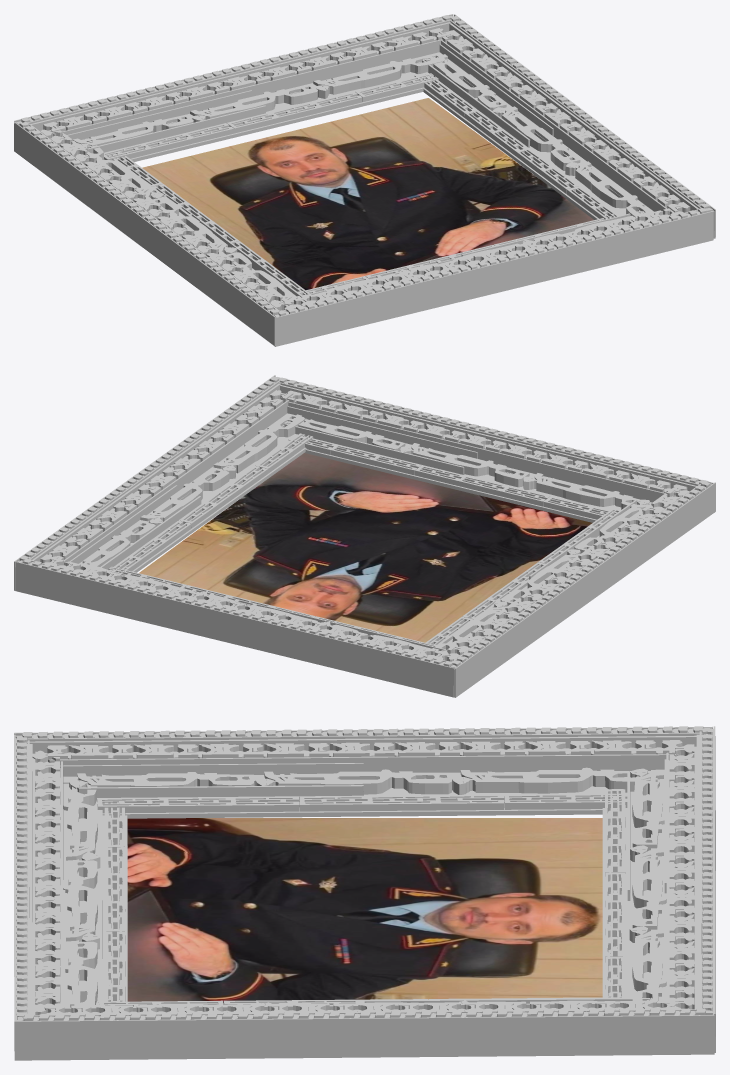
Rendered from frame.glb.
3 views of the same model, one above another, from view 1: azimuth 30°, elevation 25°; view 2: azimuth 150°, elevation 25°; view 3: azimuth 270°, elevation 25° (orthographic). The views are drawn at different scales.
Parts seen in each view (by area): view 1: photo_2024-12-24_02-48-13, mona_lisa.000, mona_lisa.026, mona_lisa.002, mona_lisa.001; view 2: photo_2024-12-24_02-48-13, mona_lisa.002, mona_lisa.026, mona_lisa.000, mona_lisa.001; view 3: photo_2024-12-24_02-48-13, mona_lisa.001, mona_lisa.026, mona_lisa.000, mona_lisa.002.
Boxes of the visible parts, x1=… form: photo_2024-12-24_02-48-13: x1=142, y1=98, x2=593, y2=290; mona_lisa.000: x1=14, y1=14, x2=453, y2=161; mona_lisa.026: x1=414, y1=14, x2=715, y2=238; mona_lisa.002: x1=274, y1=208, x2=713, y2=346; mona_lisa.001: x1=14, y1=122, x2=311, y2=346; photo_2024-12-24_02-48-13: x1=139, y1=453, x2=592, y2=642; mona_lisa.002: x1=277, y1=377, x2=714, y2=522; mona_lisa.026: x1=14, y1=375, x2=313, y2=590; mona_lisa.000: x1=15, y1=557, x2=454, y2=697; mona_lisa.001: x1=425, y1=481, x2=715, y2=697; photo_2024-12-24_02-48-13: x1=127, y1=818, x2=602, y2=1004; mona_lisa.001: x1=14, y1=726, x2=712, y2=818; mona_lisa.026: x1=14, y1=997, x2=714, y2=1060; mona_lisa.000: x1=602, y1=726, x2=715, y2=1052; mona_lisa.002: x1=14, y1=734, x2=127, y2=1050.
Bounding box in the file's own units: 1.35 × 0.1181 × 1.39.
2 materials, 1 textured.
